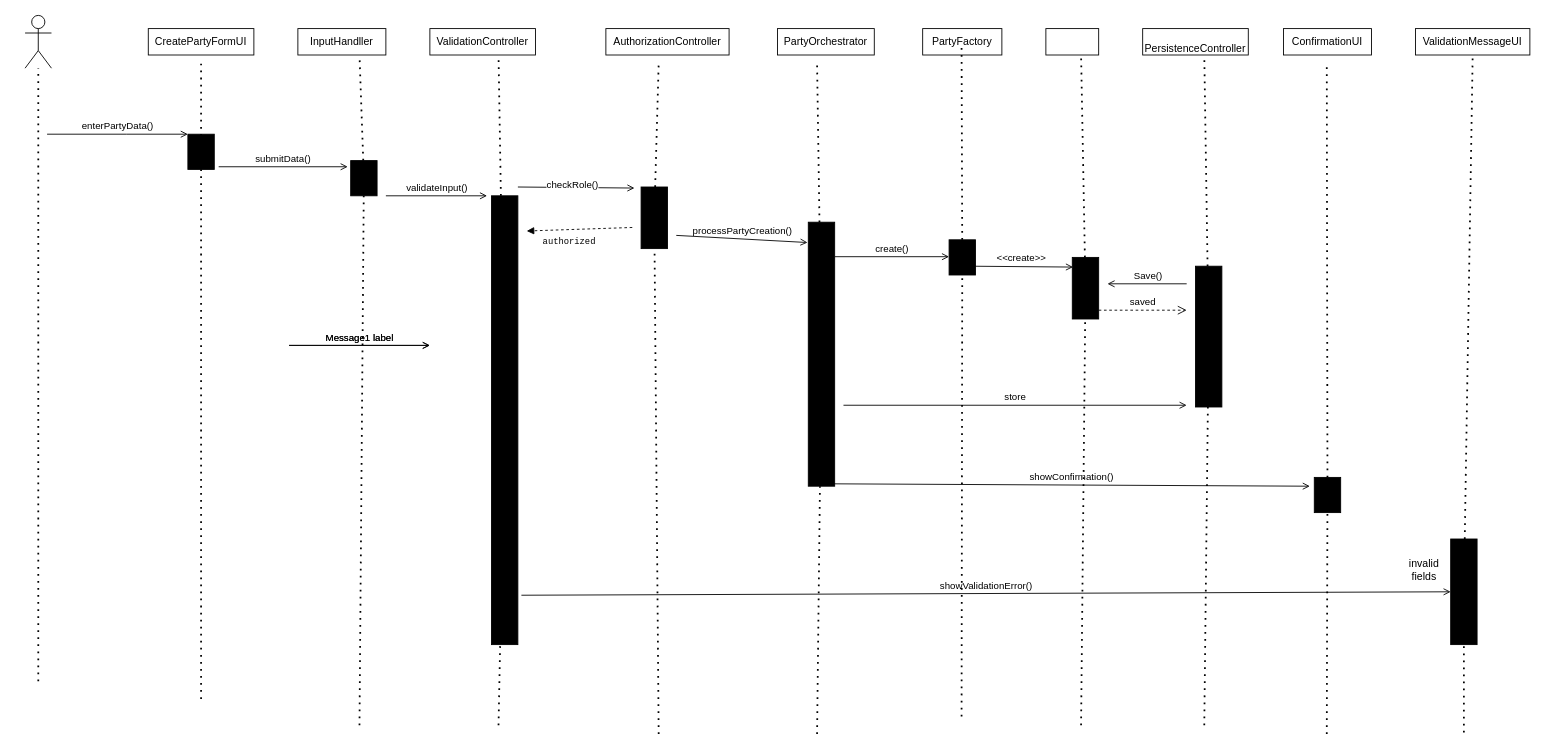
Some shapes in this 1545 by 752 pixel diagram are drawn without their labels. The centre of each missing label's shape, as x and y in pixels:
"Party" belongs at point 1072,41.
"PartyHost" belongs at point 37,41.
